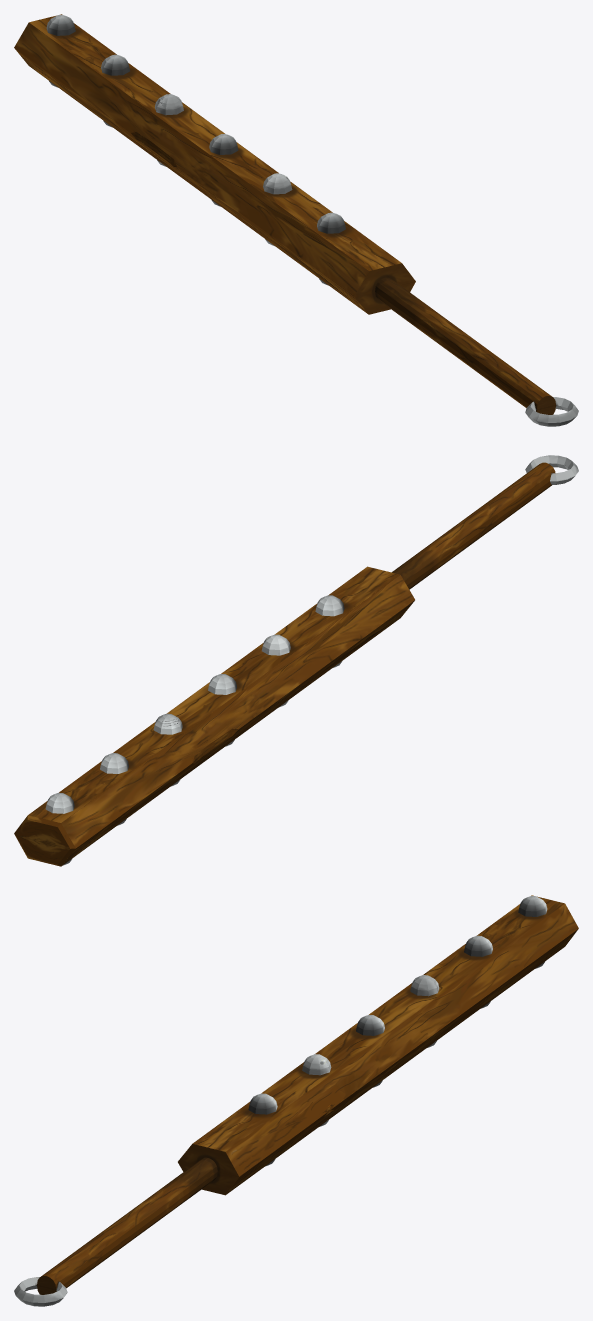
The picture shows the model from 3 angles, top to bottom: view 1: azimuth 30°, elevation 25°; view 2: azimuth 150°, elevation 25°; view 3: azimuth 330°, elevation 25°; orthographic projection.
Visible parts, largest first — view 1: Cylinder; view 2: Cylinder; view 3: Cylinder.
Boxes of the visible parts, x1,y1,x2,y2 form: Cylinder: [14, 14, 578, 426]; Cylinder: [14, 455, 578, 866]; Cylinder: [14, 895, 578, 1306].
Bounding box in the file's own units: 132 × 145 × 1934.
Materials: 1 (1 with a texture image).
